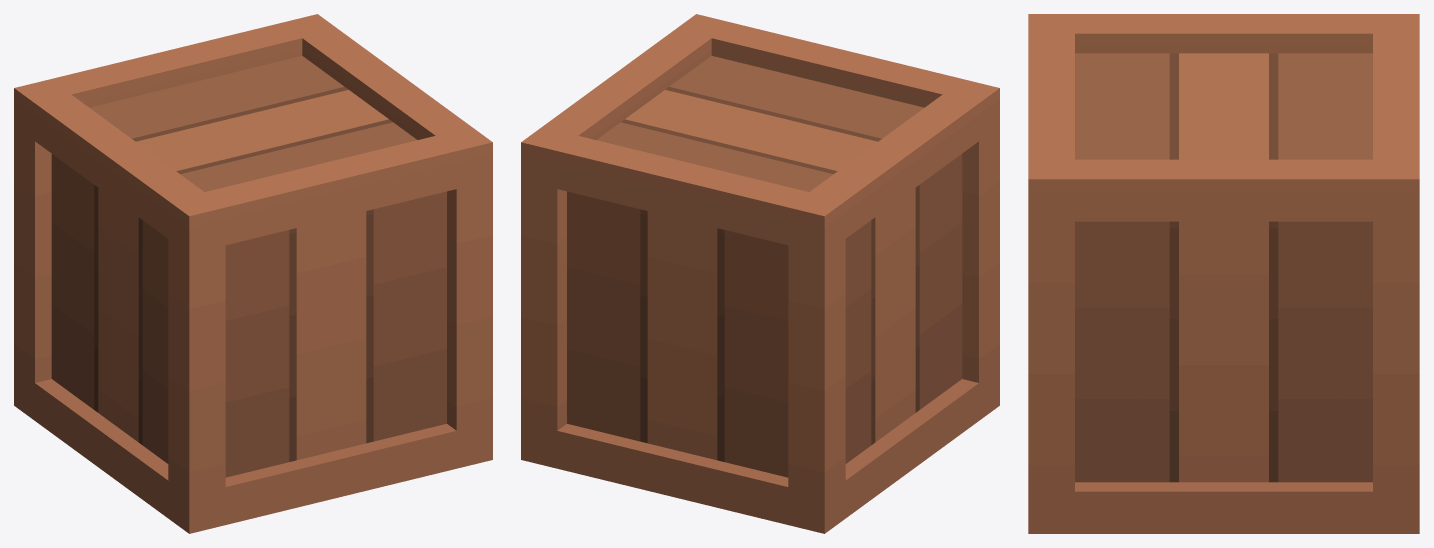
The picture shows the model from 3 angles, left to right: view 1: azimuth 30°, elevation 25°; view 2: azimuth 150°, elevation 25°; view 3: azimuth 270°, elevation 25°; orthographic projection. The views are drawn at different scales.
Visible parts, largest first — view 1: box; view 2: box; view 3: box.
Part boxes in pixels (x1,y1,x2,y2): box: (14,14,492,533); box: (521,14,999,533); box: (1028,14,1419,533).
Bounding box in the file's own units: 0.85 × 0.85 × 0.85.
Materials: 1 (1 with a texture image).
